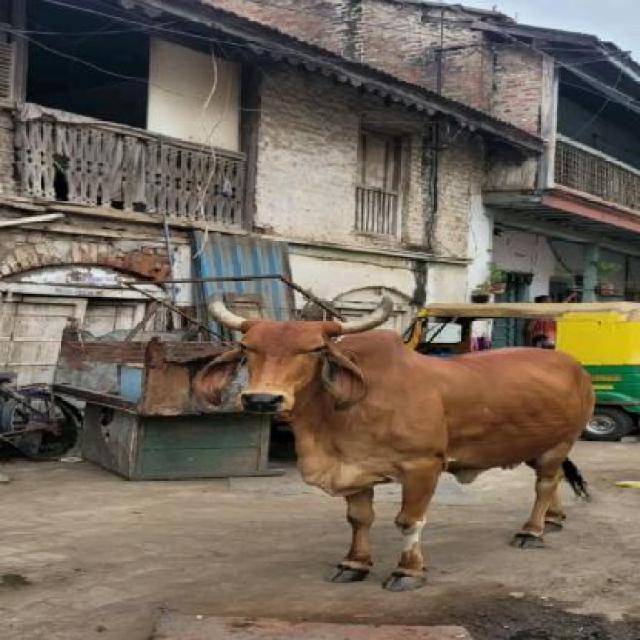cow: (208, 304, 592, 582)
